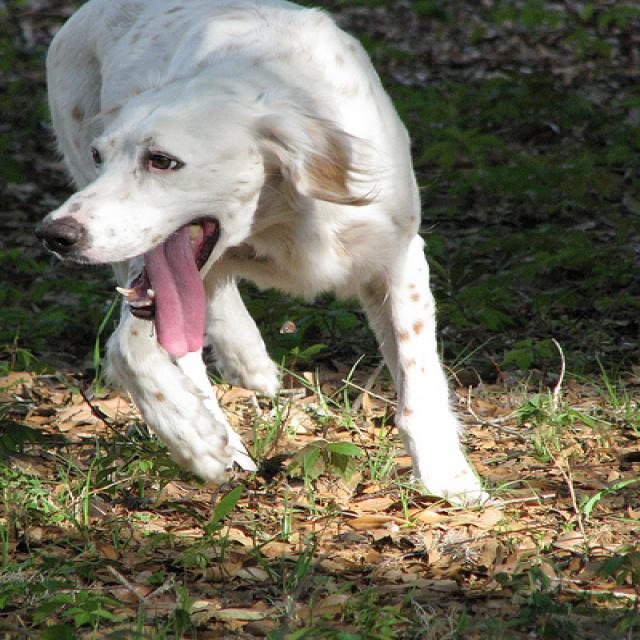dog-english_setter: (30, 1, 491, 500)
